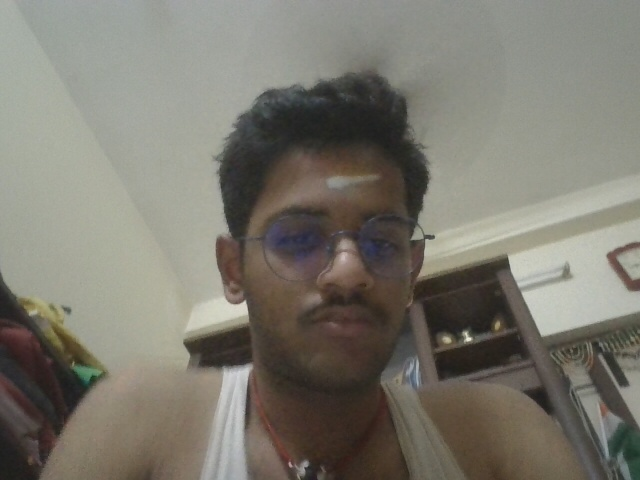real: (230, 148, 454, 372)
